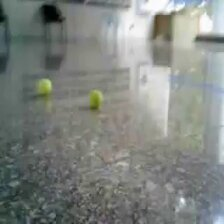tennis: (87, 89, 102, 108), (36, 77, 52, 94)
